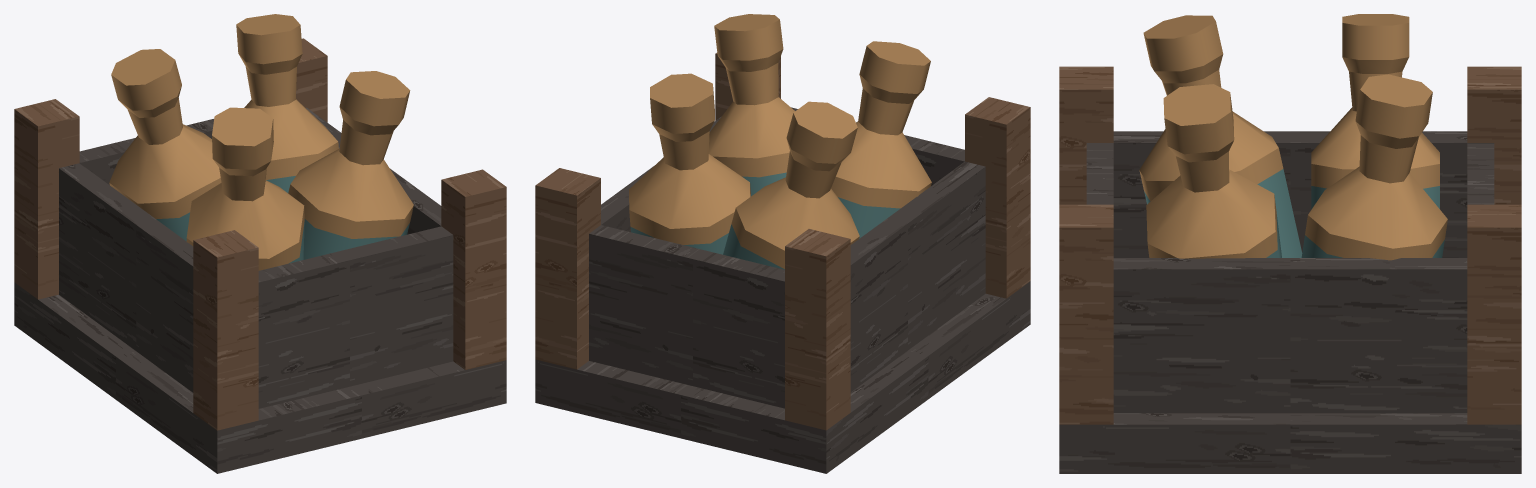
File: crate-bottles.gltf
The picture shows the model from 3 angles, left to right: view 1: azimuth 30°, elevation 25°; view 2: azimuth 150°, elevation 25°; view 3: azimuth 270°, elevation 25°; orthographic projection. The views are drawn at different scales.
Parts seen in each view (by area): view 1: crate-bottles; view 2: crate-bottles; view 3: crate-bottles.
Boxes of the visible parts, x1,y1,x2,y2 form: crate-bottles: [14, 14, 506, 473]; crate-bottles: [535, 14, 1030, 473]; crate-bottles: [1059, 14, 1521, 473].
Bounding box in the file's own units: 1.08 × 1.06 × 1.31.
4 materials, 2 textured.
